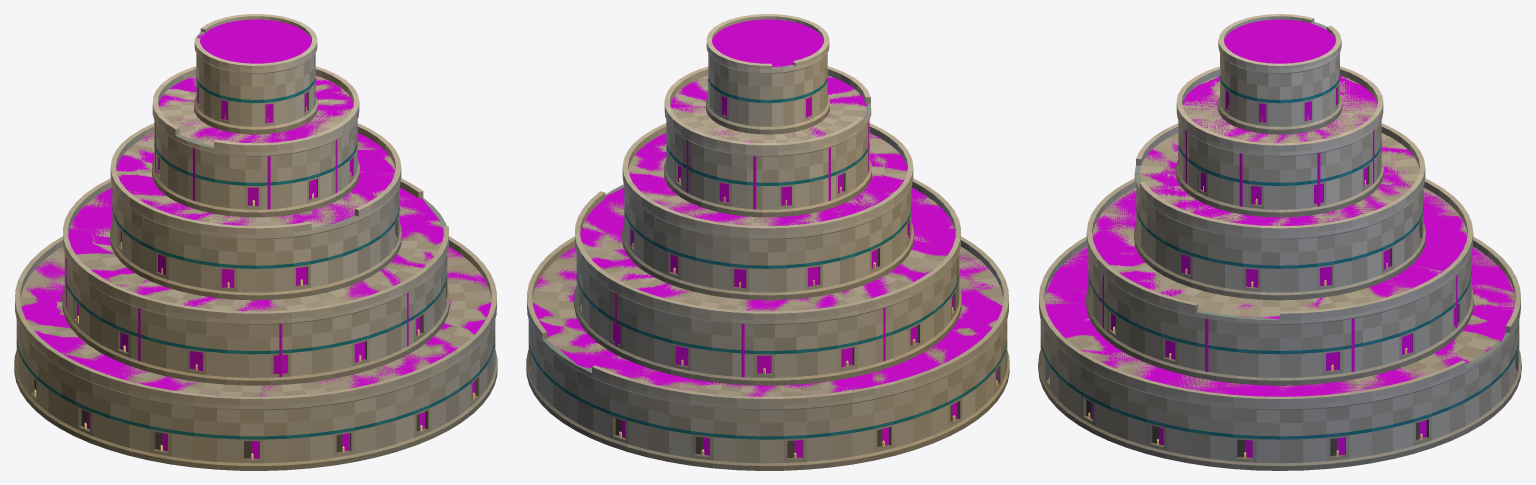
File: spire_tiers.glb
3 views of the same model, side by side, from view 1: azimuth 30°, elevation 25°; view 2: azimuth 150°, elevation 25°; view 3: azimuth 270°, elevation 25° (orthographic).
Visible parts, largest first — view 1: tier_1, tier_2, tier_3, tier_4, tier_5, col_tier_2, col_tier_1, col_tier_3, col_tier_5, col_tier_4; view 2: tier_1, tier_2, tier_3, tier_4, tier_5, col_tier_1, col_tier_2, col_tier_3, col_tier_5, col_tier_4; view 3: tier_1, tier_2, tier_3, tier_4, col_tier_1, tier_5, col_tier_2, col_tier_3, col_tier_5, col_tier_4.
Part boxes in pixels (box(x1,y1,x2,y2)): tier_1: box(14, 236, 497, 470); tier_2: box(62, 178, 449, 385); tier_3: box(110, 123, 401, 300); tier_4: box(152, 66, 359, 217); tier_5: box(194, 14, 317, 134); col_tier_2: box(66, 187, 443, 377); col_tier_1: box(21, 246, 491, 458); col_tier_3: box(116, 133, 395, 287); col_tier_5: box(197, 19, 311, 123); col_tier_4: box(155, 76, 353, 209); tier_1: box(526, 236, 1009, 470); tier_2: box(574, 178, 961, 385); tier_3: box(622, 123, 913, 300); tier_4: box(664, 66, 871, 217); tier_5: box(706, 14, 829, 134); col_tier_1: box(532, 247, 1002, 457); col_tier_2: box(580, 187, 957, 377); col_tier_3: box(629, 133, 909, 288); col_tier_5: box(712, 19, 823, 117); col_tier_4: box(670, 76, 868, 209); tier_1: box(1038, 236, 1521, 470); tier_2: box(1086, 178, 1473, 385); tier_3: box(1134, 123, 1425, 300); tier_4: box(1176, 66, 1383, 217); col_tier_1: box(1045, 247, 1515, 457); tier_5: box(1217, 14, 1342, 134); col_tier_2: box(1088, 190, 1467, 371); col_tier_3: box(1137, 140, 1417, 287); col_tier_5: box(1224, 19, 1337, 122); col_tier_4: box(1178, 75, 1377, 206).
Size of the model in its own units: 40.4 by 30.3 by 40.4.
